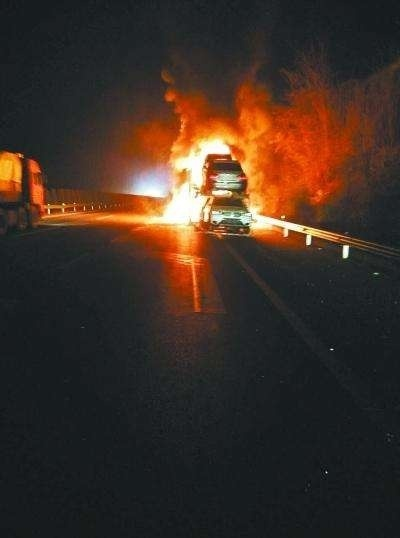fire: (154, 113, 266, 228)
